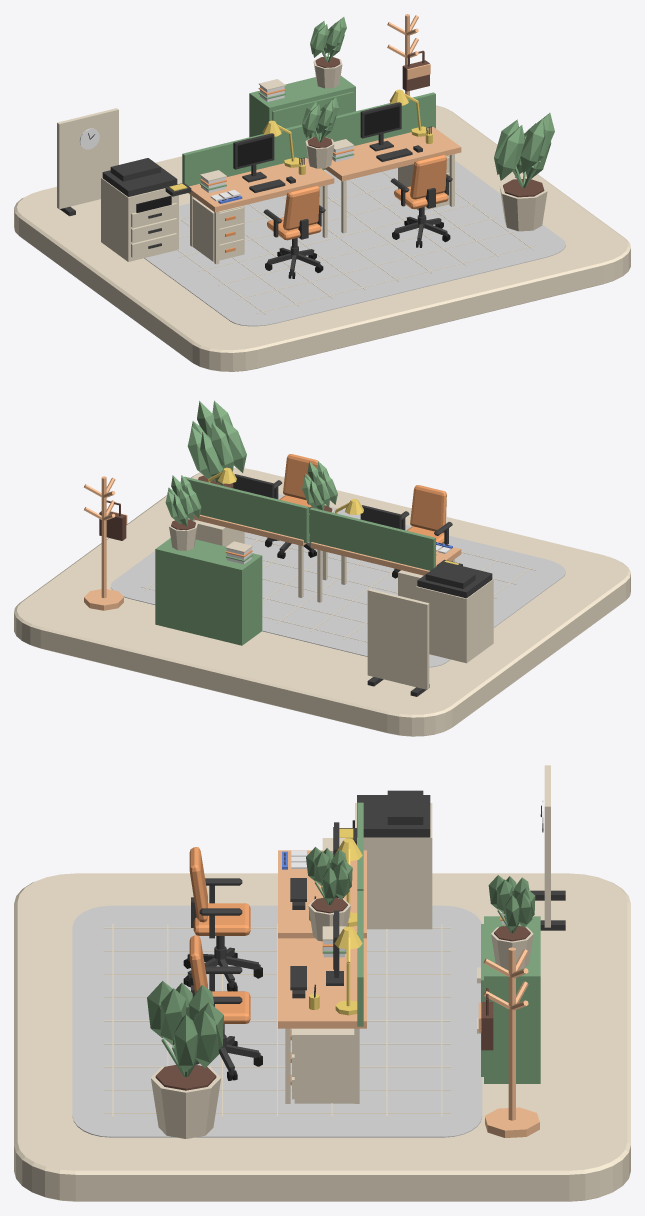
Rendered from room.fbx.
The picture shows the model from 3 angles, top to bottom: view 1: azimuth 30°, elevation 25°; view 2: azimuth 150°, elevation 25°; view 3: azimuth 270°, elevation 25°; orthographic projection. The views are drawn at different scales.
Visible parts, largest first — view 1: AST-001-0, AST-002-0, AST-009-0, AST-3111-031, AST-010-2, AST-004-1, AST-004-0, AST-015-0, AST-003-0, AST-003-1, AST-013-0, AST-3180-030 (+8 smaller); view 2: AST-001-0, AST-002-0, AST-015-0, AST-009-0, AST-3111-031, AST-013-0, AST-013-1, AST-010-2, AST-003-0, AST-010-1, AST-016-0, AST-004-0 (+10 smaller); view 3: AST-001-0, AST-002-0, AST-009-0, AST-010-2, AST-004-1, AST-015-0, AST-008-1, AST-003-0, AST-3180-030, AST-016-0, AST-010-1, AST-003-1 (+7 smaller).
Part boxes in pixels (bbox=[...]): AST-001-0: bbox=[14, 105, 630, 371]; AST-002-0: bbox=[144, 160, 565, 326]; AST-009-0: bbox=[101, 158, 191, 261]; AST-3111-031: bbox=[57, 108, 118, 216]; AST-010-2: bbox=[494, 113, 554, 231]; AST-004-1: bbox=[319, 127, 461, 233]; AST-004-0: bbox=[188, 158, 334, 264]; AST-015-0: bbox=[249, 76, 355, 170]; AST-003-0: bbox=[263, 185, 325, 278]; AST-003-1: bbox=[390, 154, 452, 247]; AST-013-0: bbox=[182, 124, 308, 186]; AST-3180-030: bbox=[177, 171, 535, 314]; AST-001-0: bbox=[14, 467, 630, 736]; AST-002-0: bbox=[110, 494, 565, 667]; AST-015-0: bbox=[155, 538, 262, 645]; AST-009-0: bbox=[416, 559, 493, 663]; AST-3111-031: bbox=[367, 589, 429, 696]; AST-013-0: bbox=[309, 507, 435, 570]; AST-013-1: bbox=[184, 476, 308, 543]; AST-010-2: bbox=[187, 400, 246, 488]; AST-003-0: bbox=[392, 485, 452, 578]; AST-010-1: bbox=[165, 475, 201, 550]; AST-016-0: bbox=[84, 476, 123, 610]; AST-004-0: bbox=[310, 542, 461, 602]; AST-001-0: bbox=[14, 873, 630, 1201]; AST-002-0: bbox=[72, 905, 482, 1137]; AST-009-0: bbox=[339, 790, 432, 929]; AST-010-2: bbox=[147, 981, 223, 1138]; AST-004-1: bbox=[278, 938, 366, 1103]; AST-015-0: bbox=[477, 916, 540, 1083]; AST-008-1: bbox=[290, 1028, 354, 1103]; AST-003-0: bbox=[183, 847, 262, 991]; AST-3180-030: bbox=[103, 923, 450, 1117]; AST-016-0: bbox=[483, 947, 539, 1137]; AST-010-1: bbox=[488, 875, 535, 969]; AST-003-1: bbox=[189, 935, 262, 1080].
Size of the model in its own units: 600 by 217 by 520.
